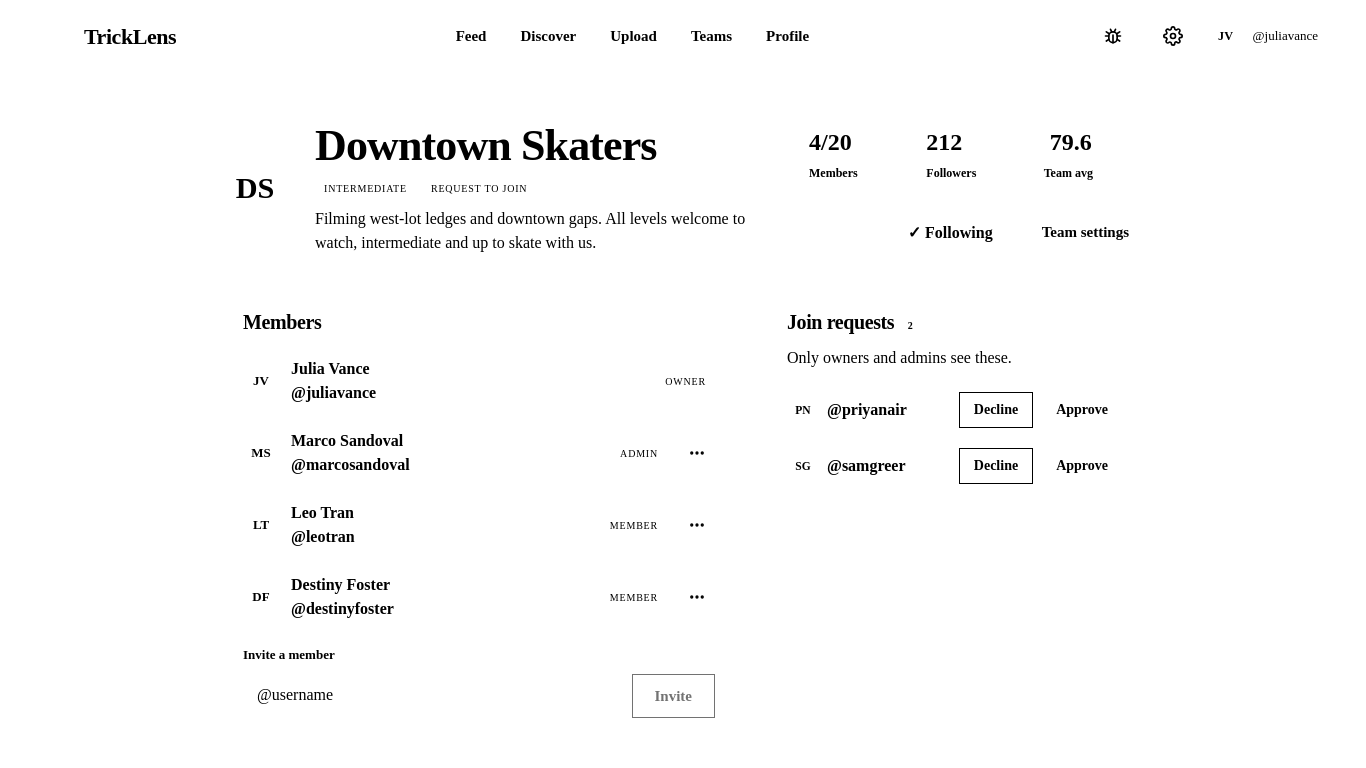
a live team › removes a member only after confirming
Click the heading named "Manage @destinyfoster" at (697, 597), box [688,588,706,606]
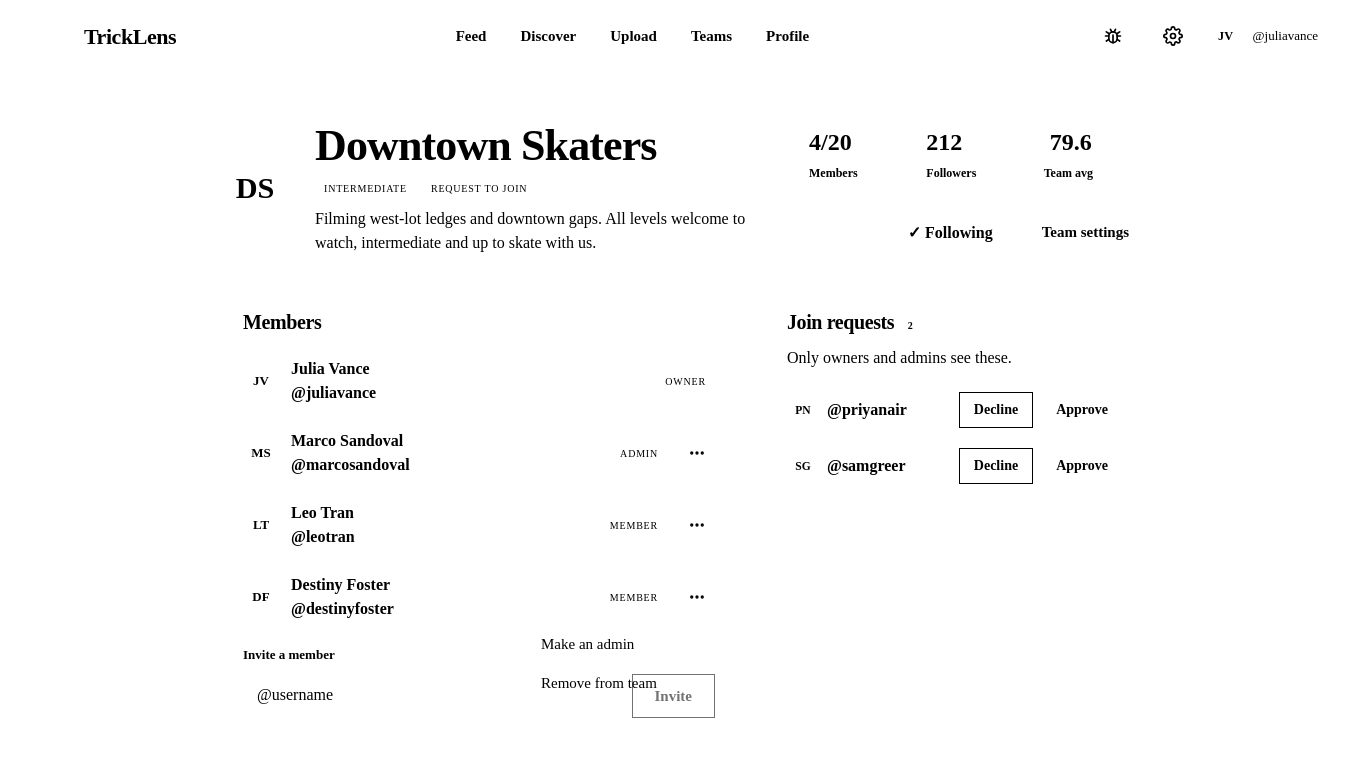
Click the button "Remove from team" at (619, 683), box [529,664,709,702]
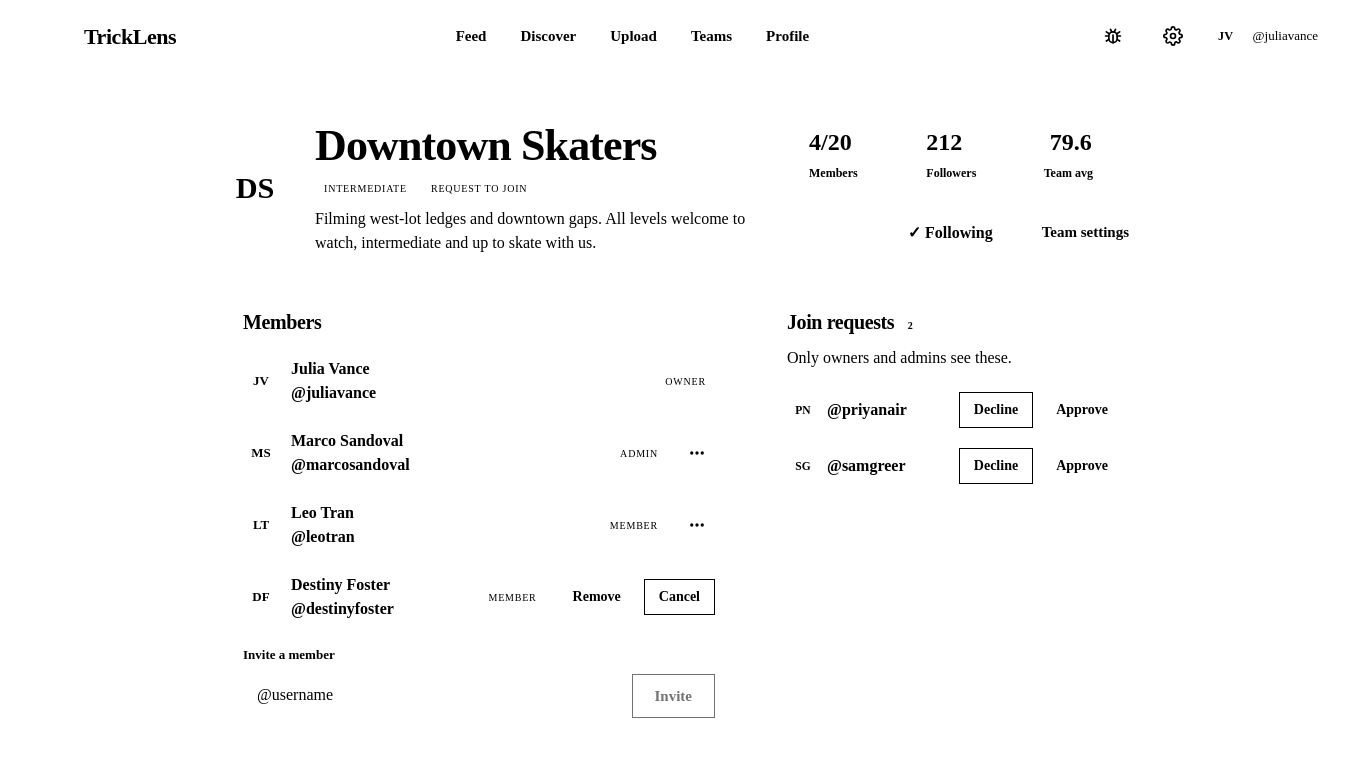
Click the button "Remove" at (597, 597), box [558,579,636,615]
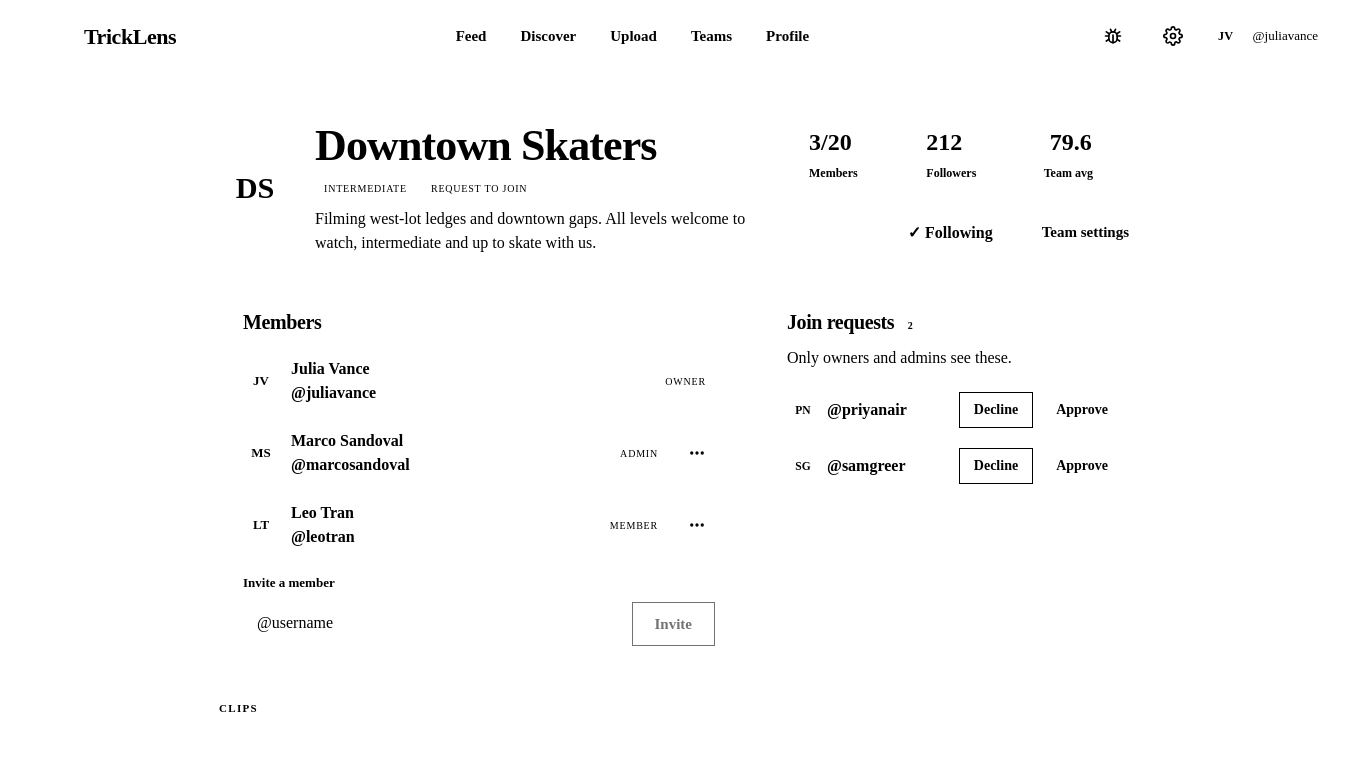
Result: the text "Destiny Foster" is gone
